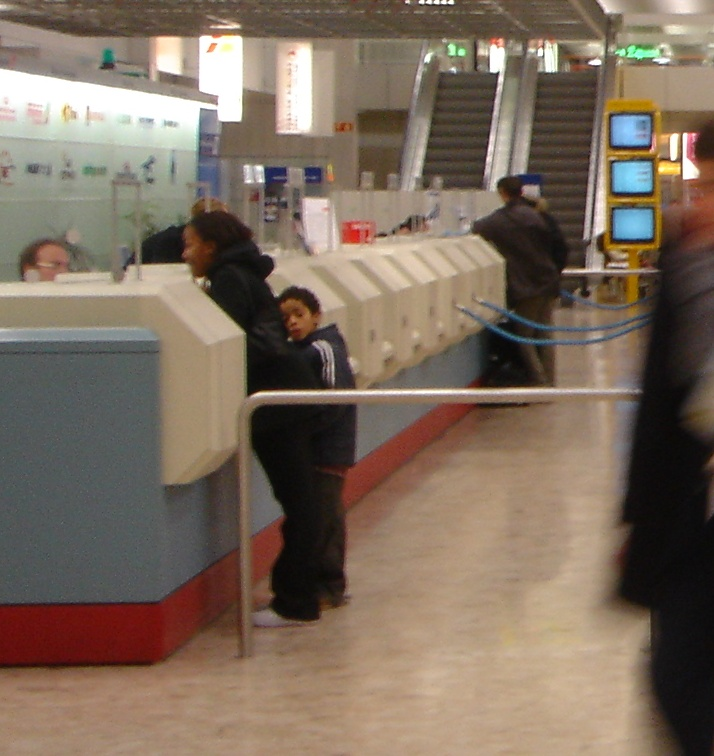person: (180, 214, 338, 622), (485, 176, 561, 407)
